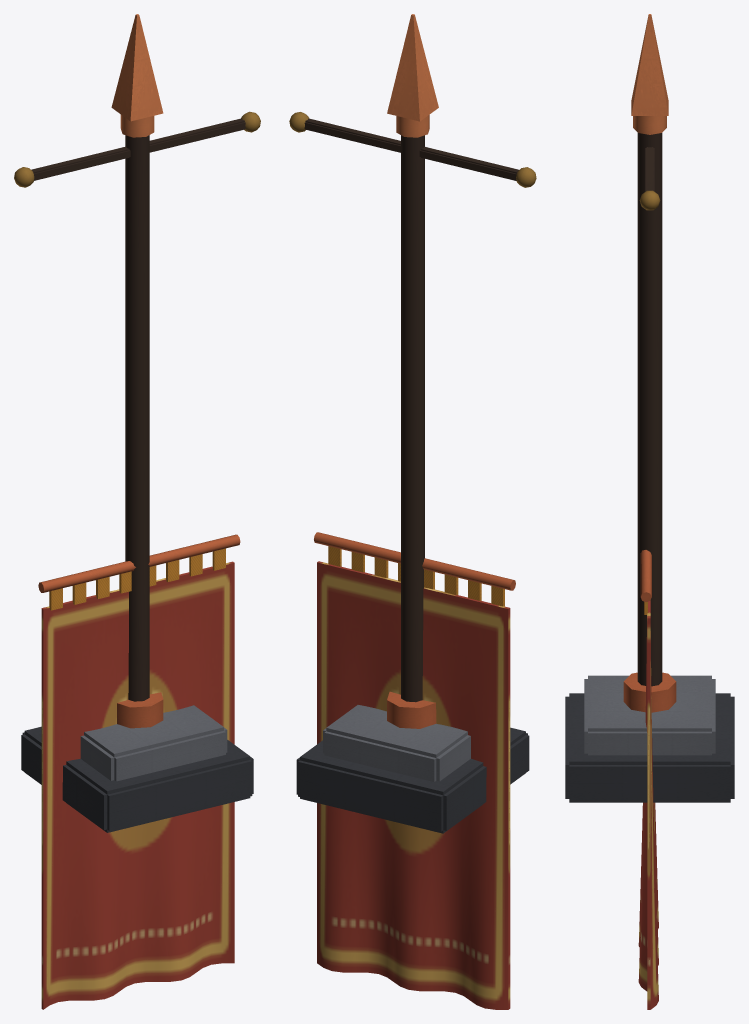
File: banner_lagto_clan.glb
3 renders of one model, left to right at view 1: azimuth 30°, elevation 25°; view 2: azimuth 150°, elevation 25°; view 3: azimuth 270°, elevation 25°, orthographic. The views are drawn at different scales.
Parts seen in each view (by area): view 1: banner_lagto_clan; view 2: banner_lagto_clan; view 3: banner_lagto_clan.
Boxes of the visible parts, x1=… form: banner_lagto_clan: x1=14, y1=14, x2=260, y2=1009; banner_lagto_clan: x1=289, y1=14, x2=536, y2=1009; banner_lagto_clan: x1=565, y1=14, x2=734, y2=1009.
Bounding box in the file's own units: 1.46 × 5.58 × 0.9.
1 material, 1 textured.
